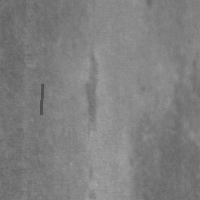inclusion: (130, 78, 198, 198), (79, 46, 101, 136), (39, 82, 44, 116)
